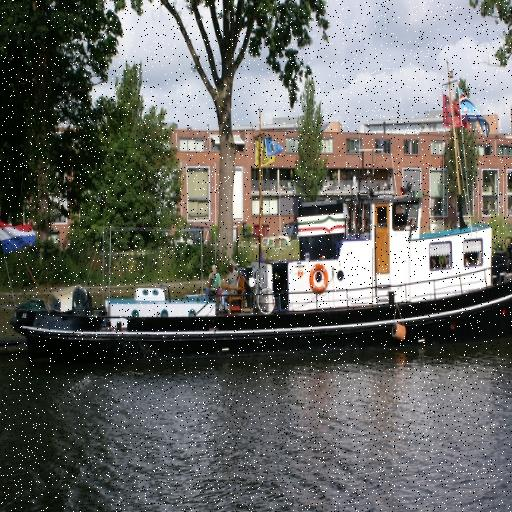tugboat: (6, 184, 512, 371)
